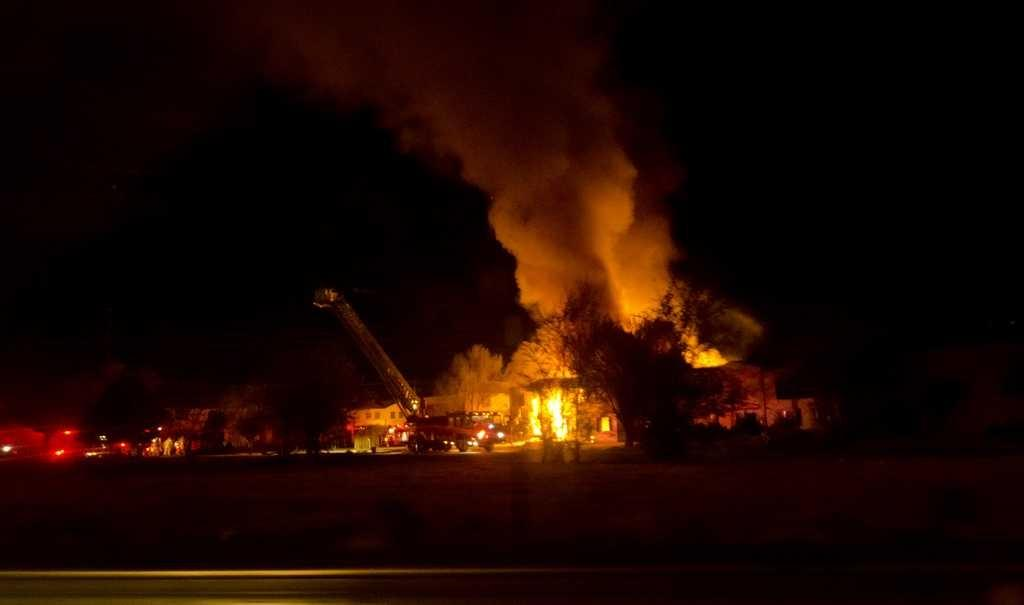fire: (522, 388, 588, 440)
smoke: (508, 172, 667, 317)
